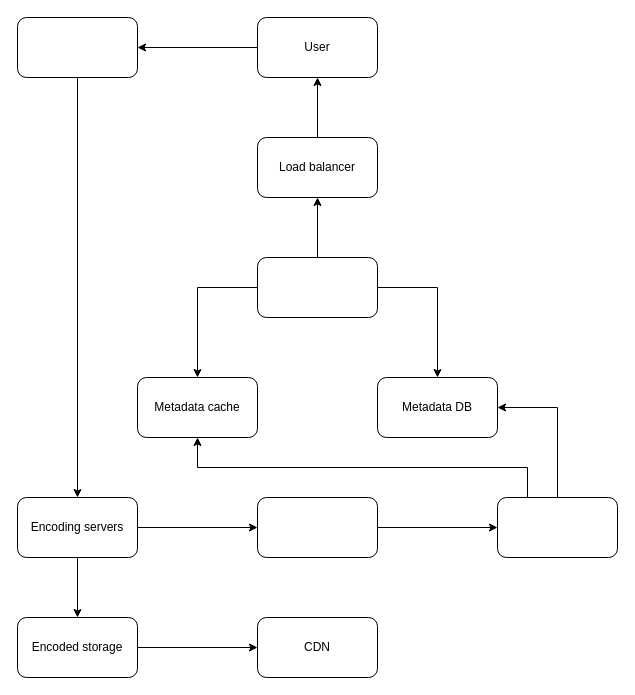
The diagram is 635 pixels wide and 695 high, and some of its shapes have lost their labels. Each missing label, with the centre of its shape:
"API servers" goes at [317,287].
"Completion handler" goes at [557,527].
"Completion queue" goes at [317,527].
"Original storage" goes at [77,47].
